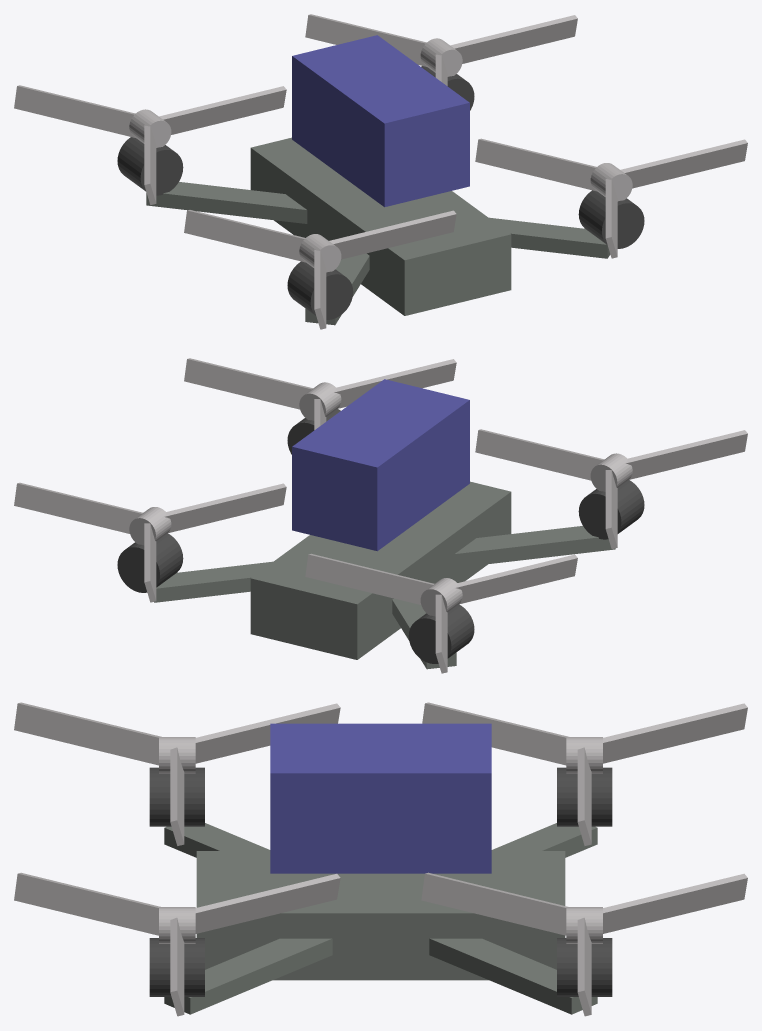
The model's file is Air 65 Racing.glb.
The picture shows the model from 3 angles, top to bottom: view 1: azimuth 30°, elevation 25°; view 2: azimuth 150°, elevation 25°; view 3: azimuth 270°, elevation 25°; orthographic projection. The views are drawn at different scales.
Parts seen in each view (by area): view 1: battery, frame_body, prop_2, prop_3, prop_0, prop_1, arm_3, arm_0, motor_0, motor_2, motor_3, arm_2 (+1 smaller); view 2: battery, frame_body, prop_1, prop_2, prop_3, prop_0, arm_2, arm_1, motor_3, motor_1, motor_2, arm_3 (+1 smaller); view 3: battery, frame_body, prop_0, prop_1, prop_2, prop_3, arm_1, arm_0, motor_3, motor_2, motor_1, motor_0 (+2 smaller).
Part boxes in pixels (x1,y1,x2,y2): battery: (292,35,469,207); frame_body: (250,137,511,315); prop_2: (184,210,456,329); prop_3: (14,85,286,205); prop_0: (475,138,747,258); prop_1: (305,14,577,85); arm_3: (146,182,307,223); arm_0: (489,217,610,258); motor_0: (578,190,644,248); motor_2: (287,261,353,319); motor_3: (117,137,183,195); arm_2: (305,253,369,325); battery: (292,379,469,551); frame_body: (250,481,511,659); prop_1: (14,482,286,602); prop_2: (475,429,747,548); prop_3: (305,553,577,673); prop_0: (184,358,456,429); arm_2: (454,526,615,567); arm_1: (154,561,272,602); motor_3: (408,604,474,663); motor_1: (117,533,183,592); motor_2: (578,480,644,539); arm_3: (392,598,456,669); battery: (270,723,491,873); frame_body: (196,851,565,980); prop_0: (14,872,340,1016); prop_1: (421,872,747,1016); prop_2: (14,702,340,845); prop_3: (422,702,747,845); arm_1: (429,938,597,1014); arm_0: (164,938,332,1014); motor_3: (557,767,612,826); motor_2: (149,767,204,826); motor_1: (557,938,612,996); motor_0: (149,938,204,996).
Bounding box in the file's own units: 0.1859 × 0.06 × 0.1989.
